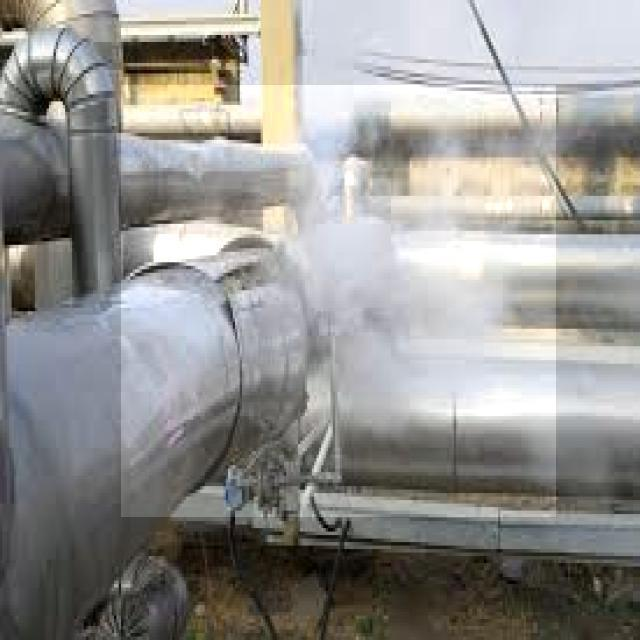corrosion: (192, 145, 373, 408)
